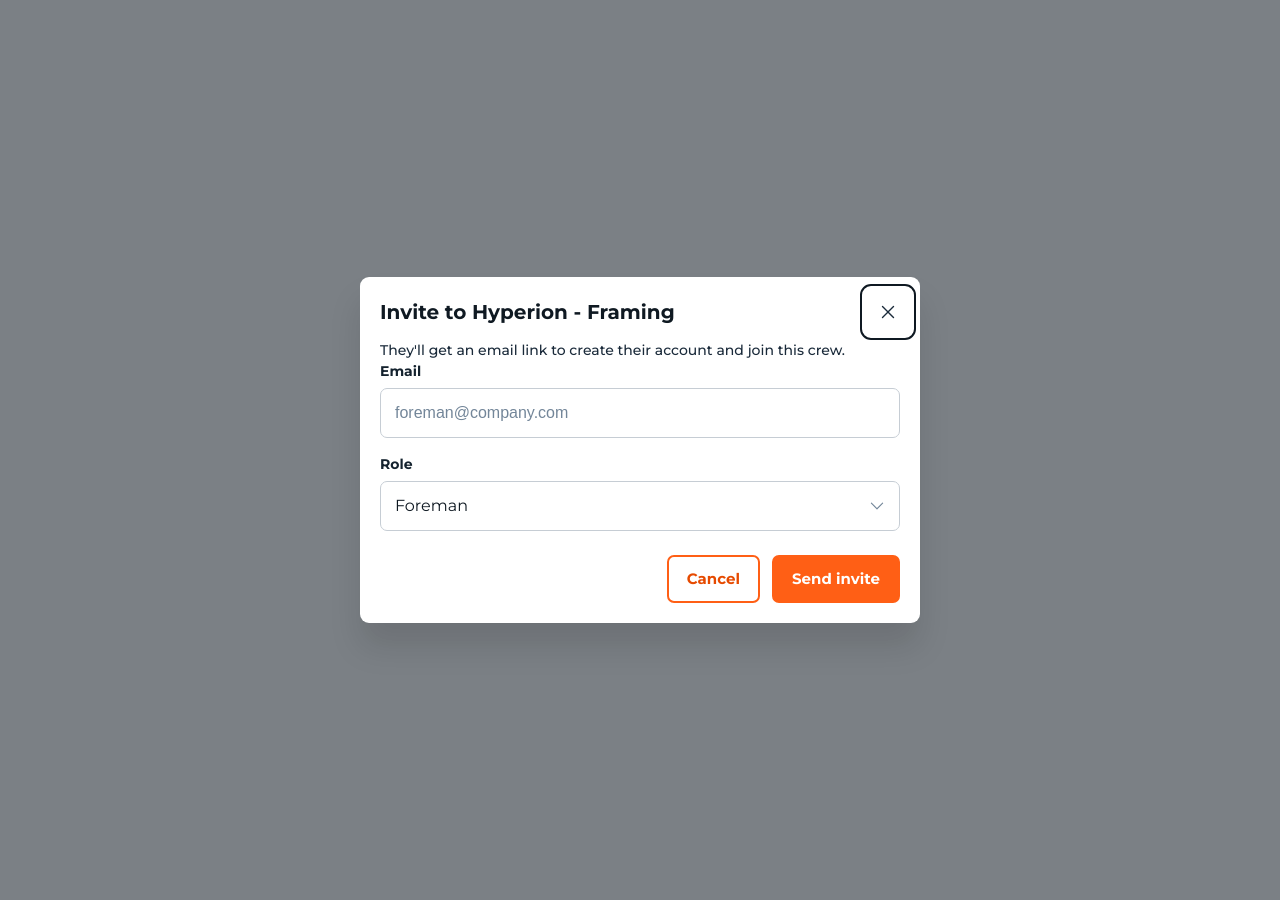
Test case: crew modals › CrewInviteModal › validates the email
Click the button "Send invite": [836, 579] box 772,555 -> 900,603
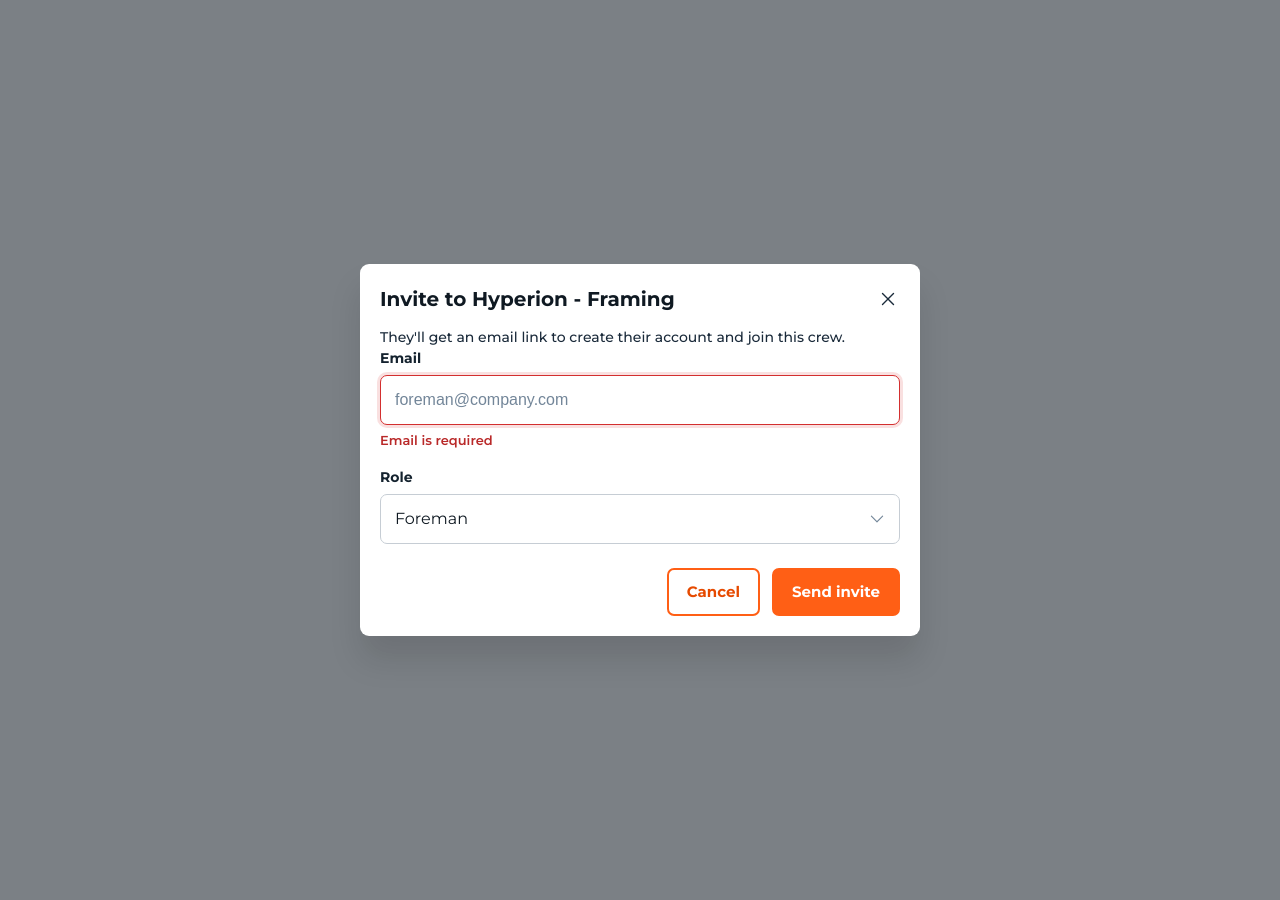
Result: the text "Email is required" is shown at 380,432 -> 493,448
In the field labelled "Email": [640, 400] box 380,375 -> 900,425, type "nope"
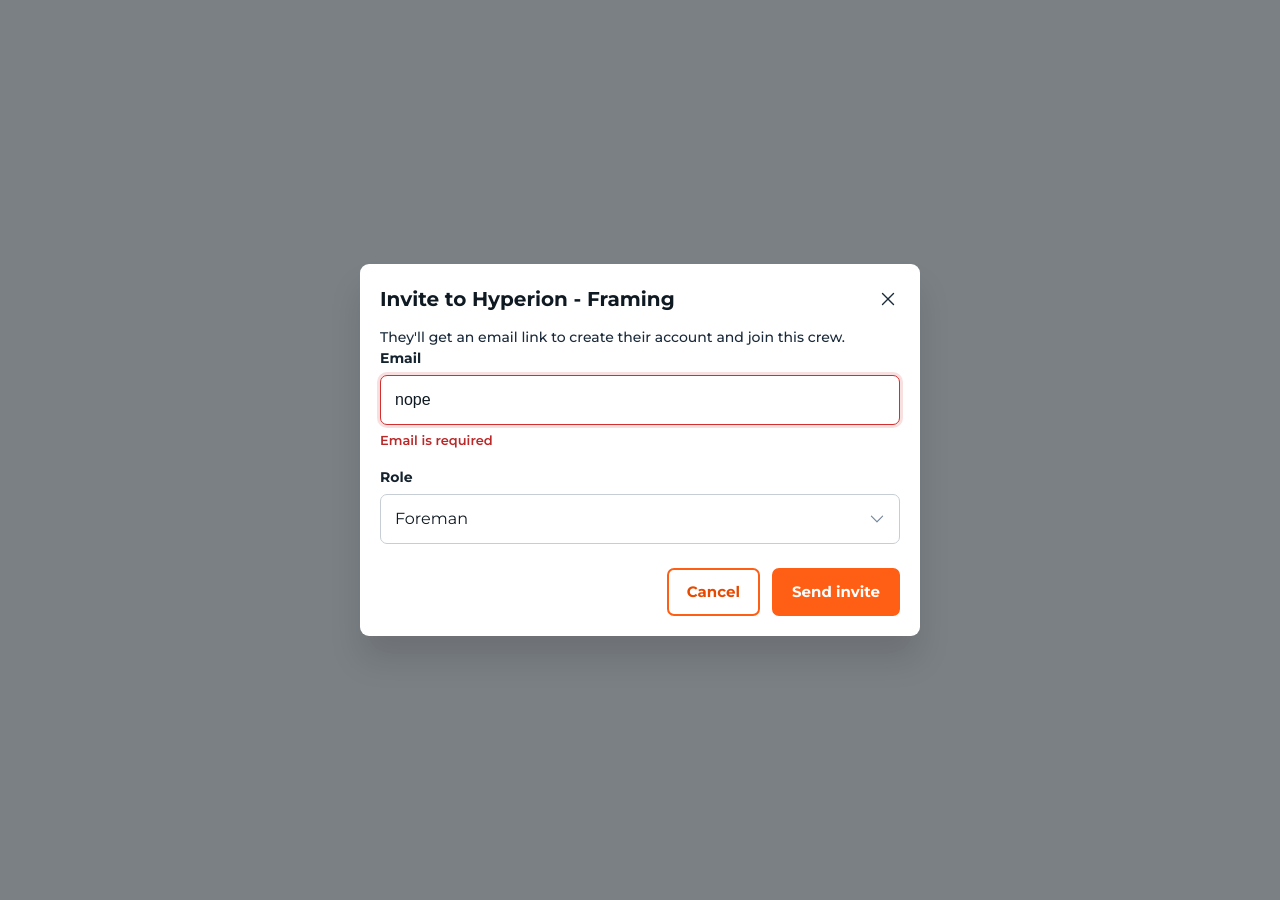
Click the button "Send invite": [836, 592] box 772,568 -> 900,616
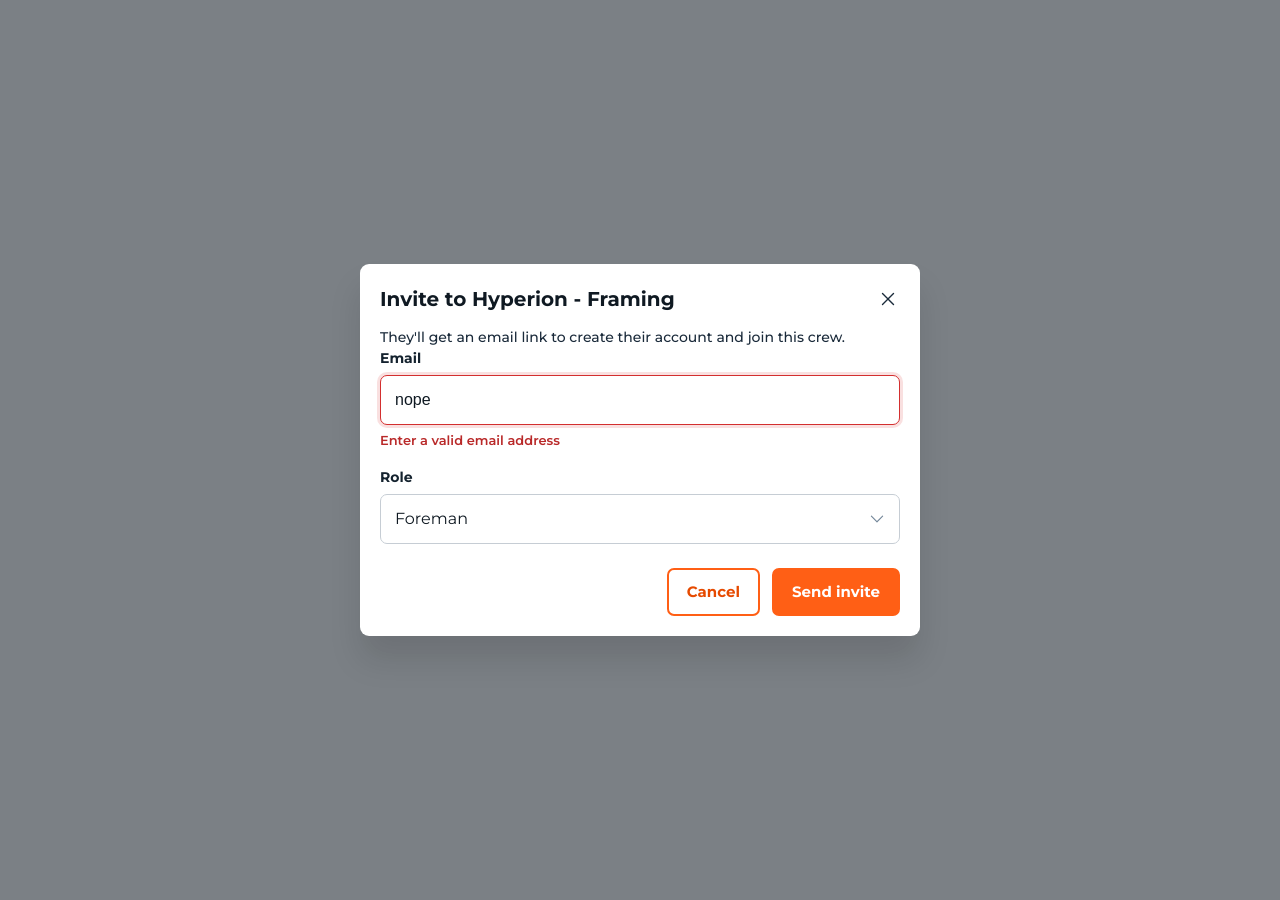
Result: the text "Enter a valid email address" is shown at 380,432 -> 560,448
